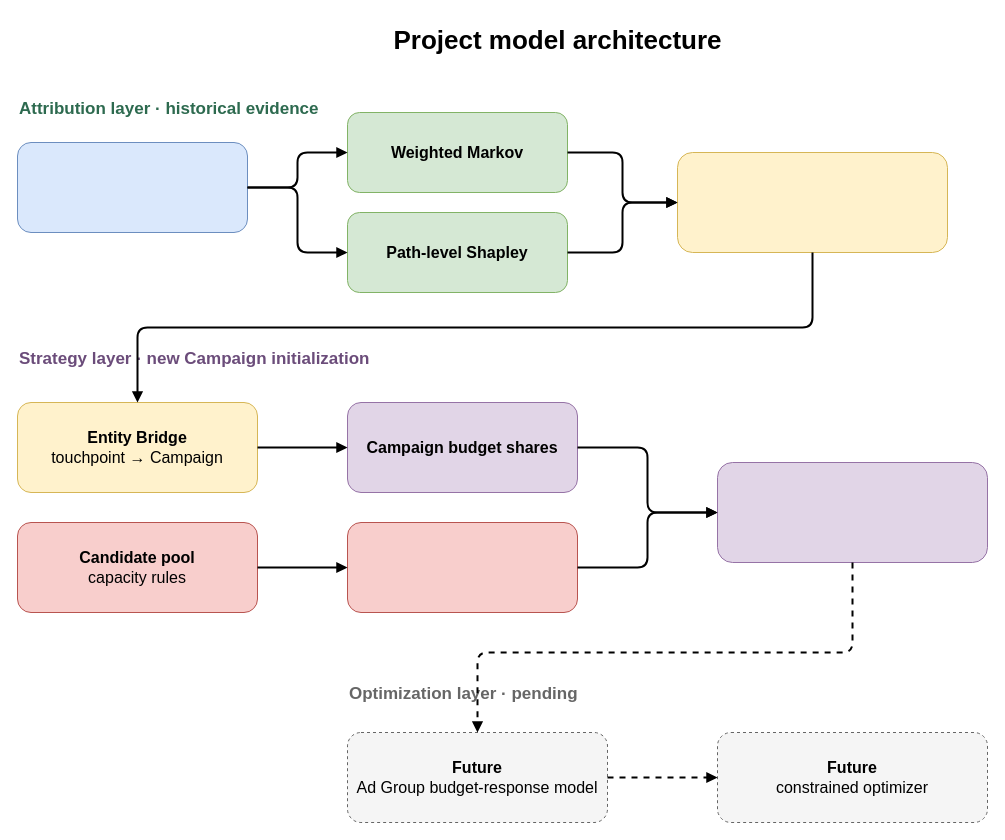
The diagram is 1005 pixels wide and 840 high, and some of its shapes have lost their labels. Here are the shapes that lost their labels. From the top down, the box of each, then its label:
(16, 142, 248, 232): AMC aggregated paths
(676, 152, 948, 252): Model comparison governed recommended shares
(716, 462, 988, 562): Initial budget equal split within Campaign
(346, 522, 578, 612): New Ad Group count
